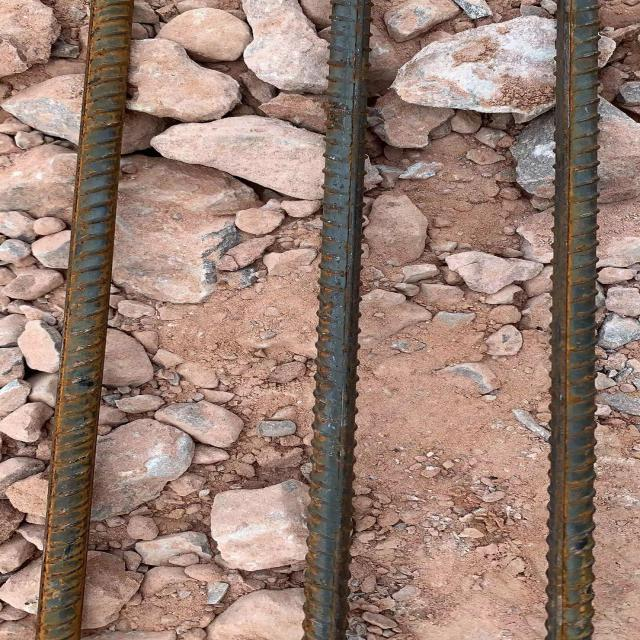ribbed bar: (33, 0, 136, 639), (304, 0, 374, 639), (547, 0, 602, 639)
